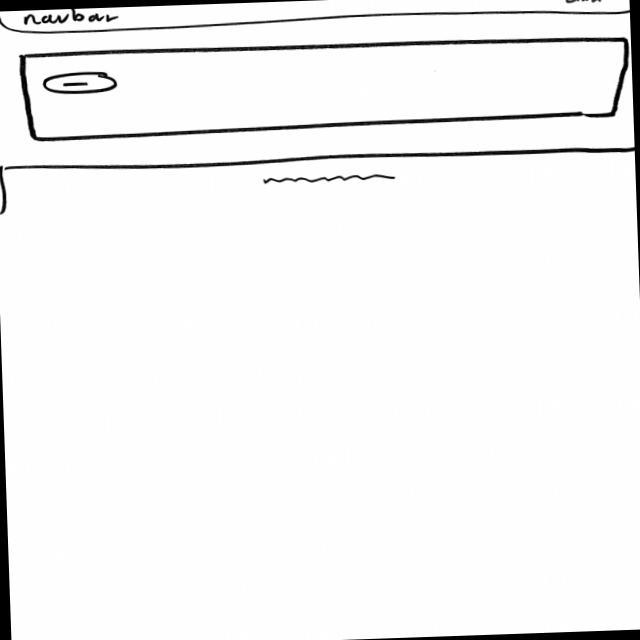container: (19, 31, 633, 143), (1, 1, 630, 35)
icon-button: (43, 69, 121, 97)
label: (21, 8, 124, 29), (564, 1, 608, 6)
text: (257, 172, 400, 189)
